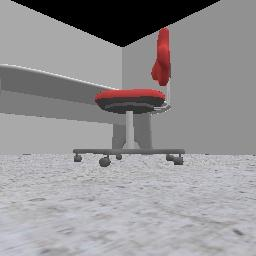masa: (0, 65, 183, 167)
